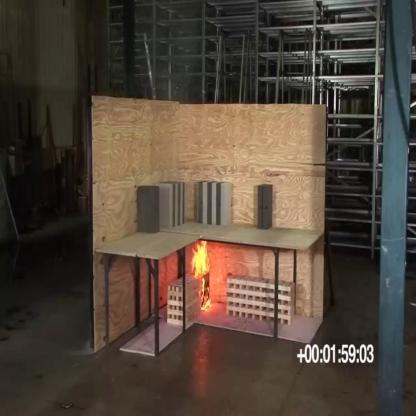fire: (190, 238, 212, 313)
